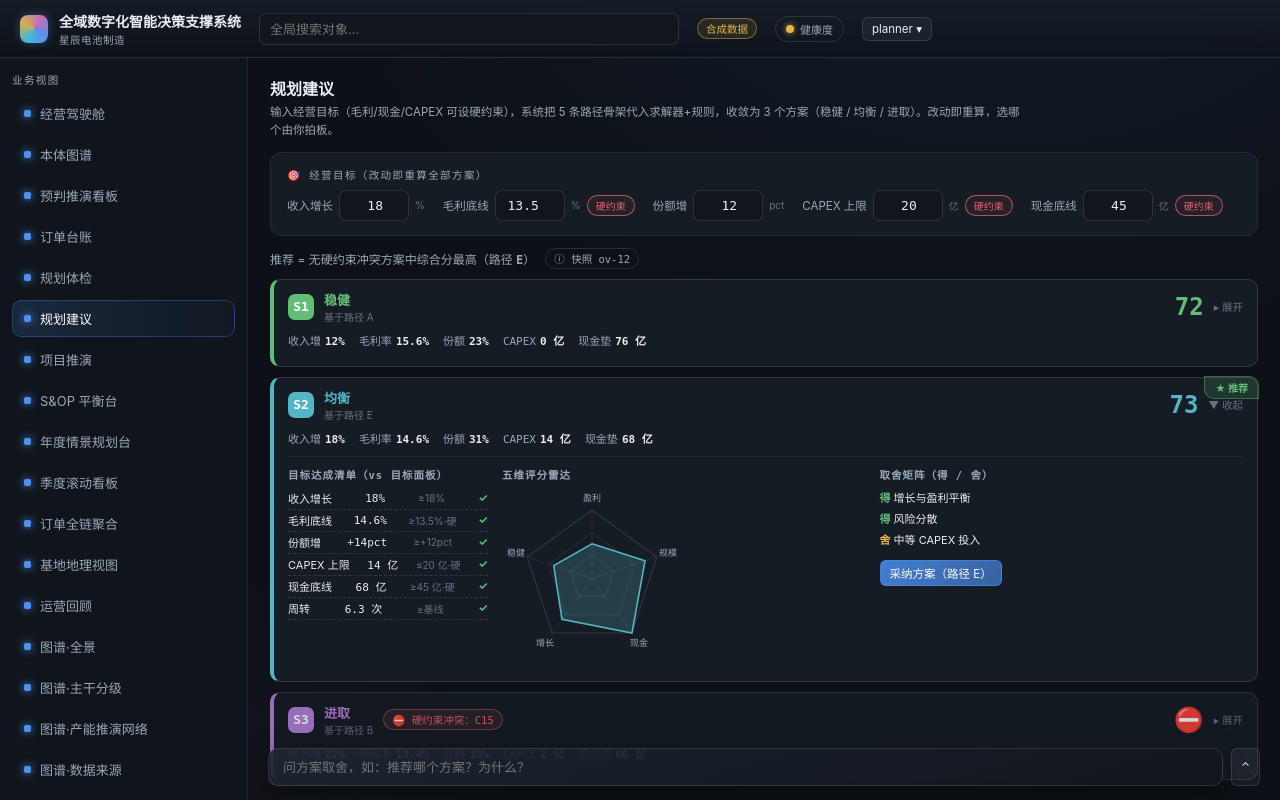
Test: F16 · 规划建议（plan-generate）目标面板与三方案卡 › CAPEX 上限 20→30：进取 ⛔ 消失（路径 B→C）、综合分恢复、推荐按新 total 归属；雷达 SVG 坐标断言
This screenshot has width=1280, height=800.
Check: the element with test id "scheme-S1" shows "稳健", box [324,292,350,308]
Check: the element with test id "scheme-S2" shows "均衡", box [324,390,350,406]
# 目标面板改 CAPEX 上限 → 30（改动即重算全部方案，debounce 300ms）
Replace the text in the number field with test id "goal-capexCap" with "30": (908, 205) [873,190,943,221]
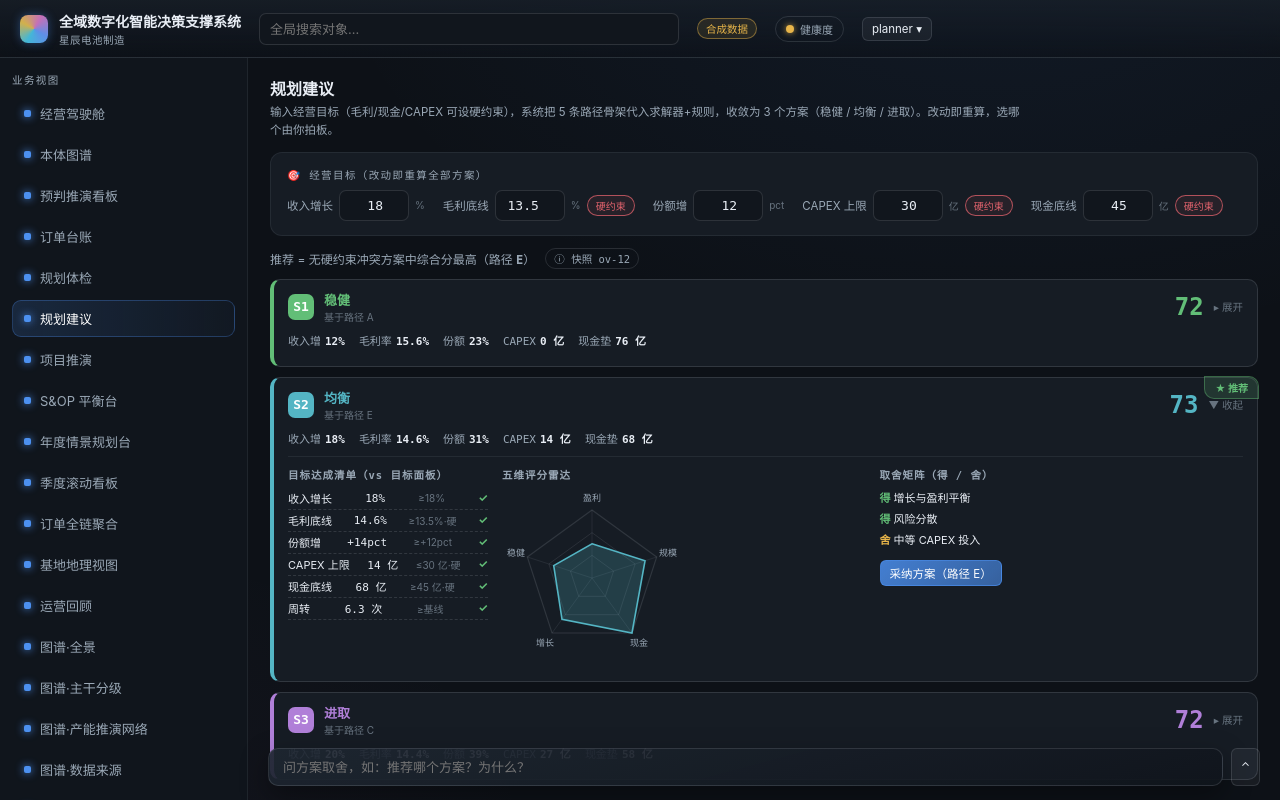
Check: the text with test id "hardviol-badge-S3" is gone
Check: the element with test id "scheme-S3" shows "基于路径 C", box [270,692,1258,780]
Check: the text with test id "scheme-score-S3" reads "72", box [1175,706,1204,734]
